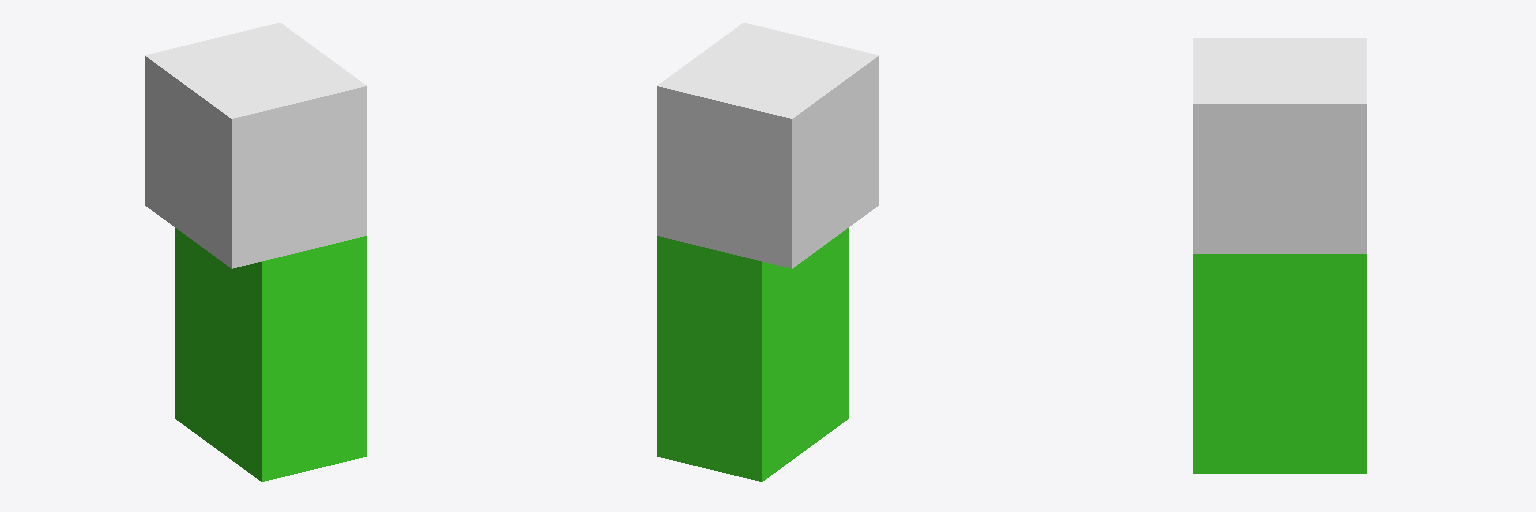
The picture shows the model from 3 angles: view 1: azimuth 30°, elevation 25°; view 2: azimuth 150°, elevation 25°; view 3: azimuth 270°, elevation 25°; orthographic projection.
Visible parts, largest first — view 1: object 1; view 2: object 1; view 3: object 1.
Part boxes in pixels (x1,y1,x2,y2): object 1: (145, 23, 366, 481); object 1: (657, 23, 878, 481); object 1: (1193, 38, 1366, 473).
Size of the model in its own units: 1.8 by 4.7 by 2.
1 materials, 1 textured.